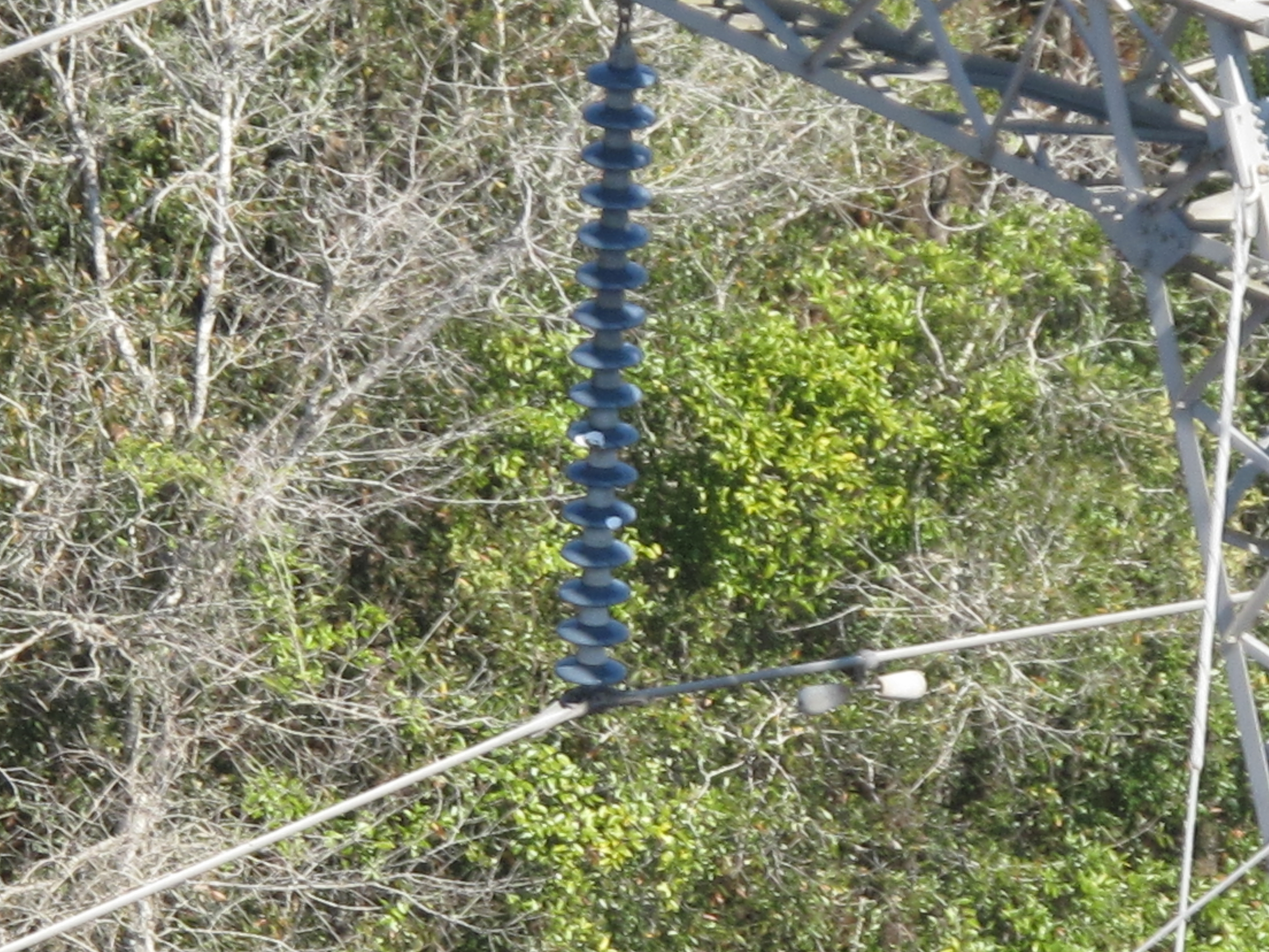damaged: (569, 425, 609, 450), (596, 509, 627, 534)
hammer: (803, 642, 930, 720)
insulator: (555, 54, 660, 689)
